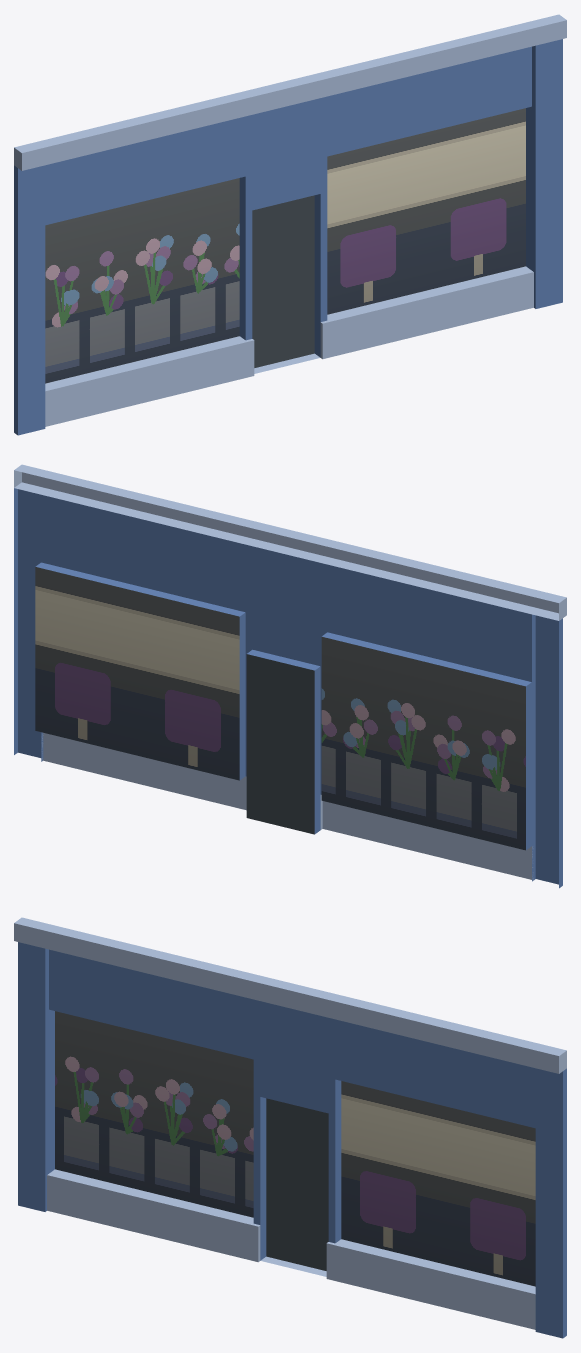
Rendered from SM_ShopFront_8m_Cicek.obj.
The picture shows the model from 3 angles, top to bottom: view 1: azimuth 30°, elevation 25°; view 2: azimuth 150°, elevation 25°; view 3: azimuth 330°, elevation 25°; orthographic projection.
Parts seen in each view (by area): view 1: ShopFront; view 2: ShopFront; view 3: ShopFront.
Boxes of the visible parts, x1,y1,x2,y2 form: ShopFront: (14, 14, 566, 435); ShopFront: (14, 464, 566, 888); ShopFront: (14, 917, 566, 1338).
Bounding box in the file's own units: 8 × 4 × 0.35.
